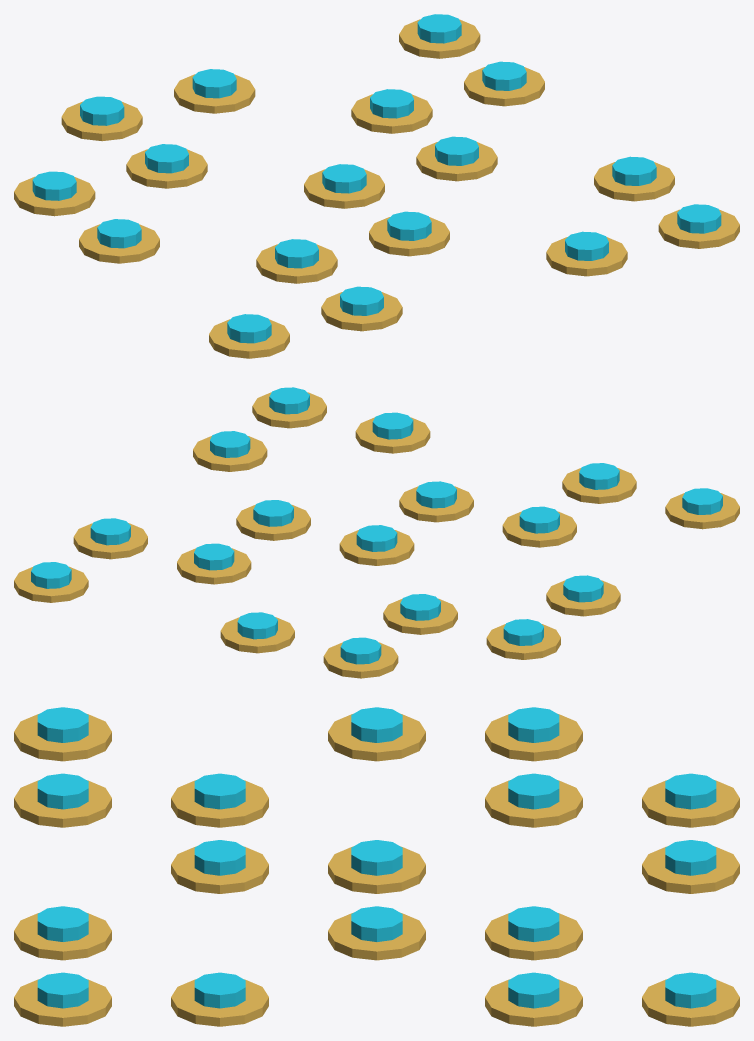
File: 26_L75_ImplantedDopantRegionVisualization.fbx
The picture shows the model from 3 angles, top to bottom: view 1: azimuth 30°, elevation 25°; view 2: azimuth 150°, elevation 25°; view 3: azimuth 270°, elevation 25°; orthographic projection. The views are drawn at different scales.
Parts seen in each view (by area): view 1: ImplantedDopantRegionVisualization_Part_0000, ImplantedDopantRegionVisualization_Part_0026, ImplantedDopantRegionVisualization_Part_0014, ImplantedDopantRegionVisualization_Part_0032, ImplantedDopantRegionVisualization_Part_0012, ImplantedDopantRegionVisualization_Part_0018, ImplantedDopantRegionVisualization_Part_0028, ImplantedDopantRegionVisualization_Part_0002, ImplantedDopantRegionVisualization_Part_0022, ImplantedDopantRegionVisualization_Part_0030, ImplantedDopantRegionVisualization_Part_0004, ImplantedDopantRegionVisualization_Part_0010 (+22 smaller); view 2: ImplantedDopantRegionVisualization_Part_0012, ImplantedDopantRegionVisualization_Part_0002, ImplantedDopantRegionVisualization_Part_0024, ImplantedDopantRegionVisualization_Part_0006, ImplantedDopantRegionVisualization_Part_0016, ImplantedDopantRegionVisualization_Part_0026, ImplantedDopantRegionVisualization_Part_0004, ImplantedDopantRegionVisualization_Part_0014, ImplantedDopantRegionVisualization_Part_0028, ImplantedDopantRegionVisualization_Part_0008, ImplantedDopantRegionVisualization_Part_0022, ImplantedDopantRegionVisualization_Part_0000 (+22 smaller); view 3: ImplantedDopantRegionVisualization_Part_0016, ImplantedDopantRegionVisualization_Part_0018, ImplantedDopantRegionVisualization_Part_0014, ImplantedDopantRegionVisualization_Part_0006, ImplantedDopantRegionVisualization_Part_0012, ImplantedDopantRegionVisualization_Part_0026, ImplantedDopantRegionVisualization_Part_0032, ImplantedDopantRegionVisualization_Part_0004, ImplantedDopantRegionVisualization_Part_0008, ImplantedDopantRegionVisualization_Part_0010, ImplantedDopantRegionVisualization_Part_0028, ImplantedDopantRegionVisualization_Part_0030 (+22 smaller).
Boxes of the visible parts, x1,y1,x2,y2 form: ImplantedDopantRegionVisualization_Part_0000: [14, 176, 95, 216]; ImplantedDopantRegionVisualization_Part_0026: [399, 19, 480, 58]; ImplantedDopantRegionVisualization_Part_0014: [174, 74, 255, 113]; ImplantedDopantRegionVisualization_Part_0032: [658, 209, 739, 248]; ImplantedDopantRegionVisualization_Part_0012: [321, 292, 402, 331]; ImplantedDopantRegionVisualization_Part_0018: [369, 217, 449, 256]; ImplantedDopantRegionVisualization_Part_0028: [464, 67, 544, 106]; ImplantedDopantRegionVisualization_Part_0002: [79, 224, 159, 263]; ImplantedDopantRegionVisualization_Part_0022: [416, 142, 497, 181]; ImplantedDopantRegionVisualization_Part_0030: [594, 162, 674, 201]; ImplantedDopantRegionVisualization_Part_0004: [209, 319, 289, 358]; ImplantedDopantRegionVisualization_Part_0010: [256, 244, 337, 283]; ImplantedDopantRegionVisualization_Part_0012: [562, 468, 636, 503]; ImplantedDopantRegionVisualization_Part_0002: [546, 580, 620, 616]; ImplantedDopantRegionVisualization_Part_0024: [355, 417, 430, 453]; ImplantedDopantRegionVisualization_Part_0006: [323, 642, 398, 678]; ImplantedDopantRegionVisualization_Part_0016: [339, 530, 414, 565]; ImplantedDopantRegionVisualization_Part_0026: [14, 566, 88, 602]; ImplantedDopantRegionVisualization_Part_0004: [665, 493, 739, 529]; ImplantedDopantRegionVisualization_Part_0014: [220, 617, 294, 653]; ImplantedDopantRegionVisualization_Part_0028: [73, 523, 147, 559]; ImplantedDopantRegionVisualization_Part_0008: [383, 598, 457, 634]; ImplantedDopantRegionVisualization_Part_0022: [236, 504, 310, 540]; ImplantedDopantRegionVisualization_Part_0000: [486, 624, 560, 659]; ImplantedDopantRegionVisualization_Part_0016: [328, 846, 425, 893]; ImplantedDopantRegionVisualization_Part_0018: [171, 846, 268, 893]; ImplantedDopantRegionVisualization_Part_0014: [642, 846, 739, 893]; ImplantedDopantRegionVisualization_Part_0006: [642, 780, 739, 827]; ImplantedDopantRegionVisualization_Part_0012: [14, 780, 111, 827]; ImplantedDopantRegionVisualization_Part_0026: [642, 979, 739, 1026]; ImplantedDopantRegionVisualization_Part_0032: [14, 979, 111, 1026]; ImplantedDopantRegionVisualization_Part_0004: [14, 713, 111, 761]; ImplantedDopantRegionVisualization_Part_0008: [485, 780, 582, 827]; ImplantedDopantRegionVisualization_Part_0010: [171, 780, 268, 827]; ImplantedDopantRegionVisualization_Part_0028: [485, 979, 582, 1026]; ImplantedDopantRegionVisualization_Part_0030: [171, 979, 268, 1026].
Size of the model in its own units: 111 by 3.75 by 111.
